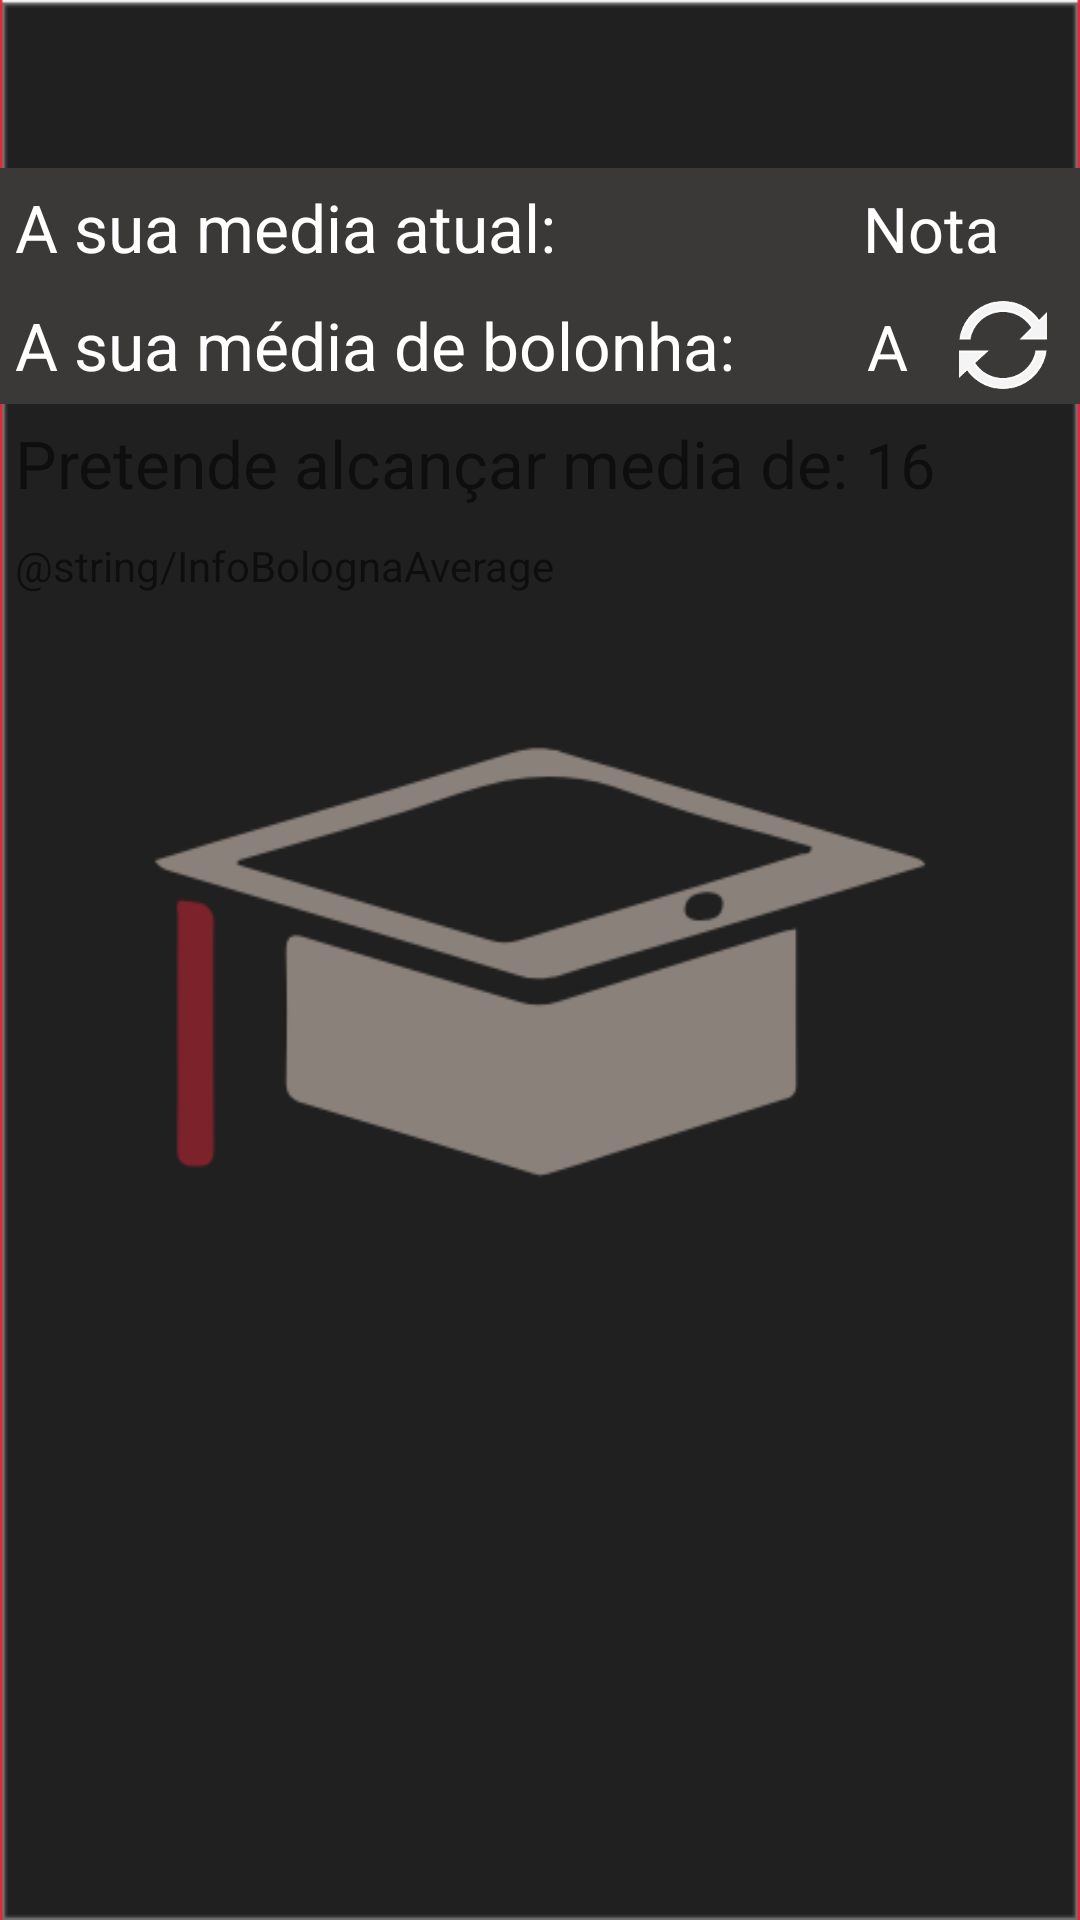

Screen size 1080w x 1920h. Icon name, then its center in pixels as (x=x, y=y):
sync: (x=1003, y=345)
